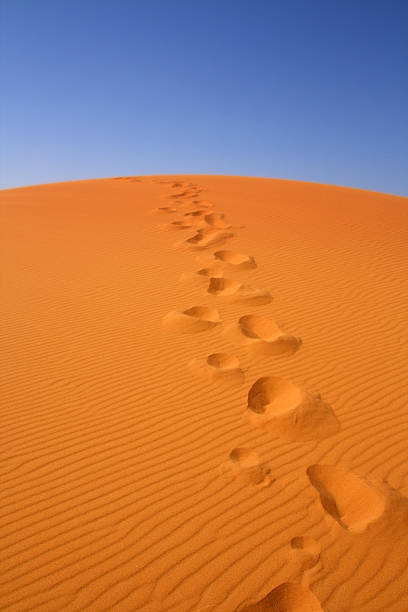human_foot_print: (247, 376, 339, 441), (224, 314, 301, 356), (236, 582, 322, 611), (219, 447, 272, 486), (207, 277, 272, 305), (188, 352, 244, 384), (162, 306, 220, 332)
